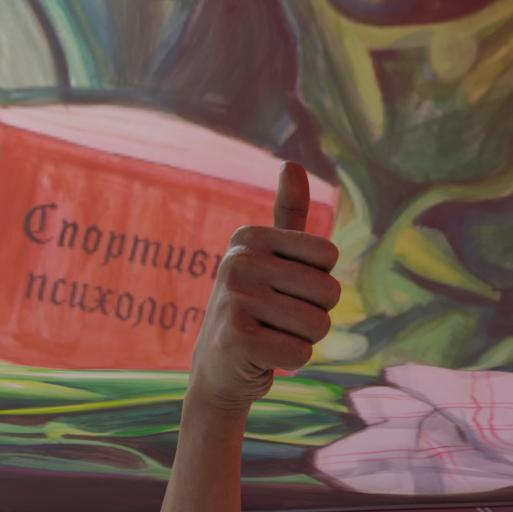thumbs-up: (190, 138, 347, 408)
